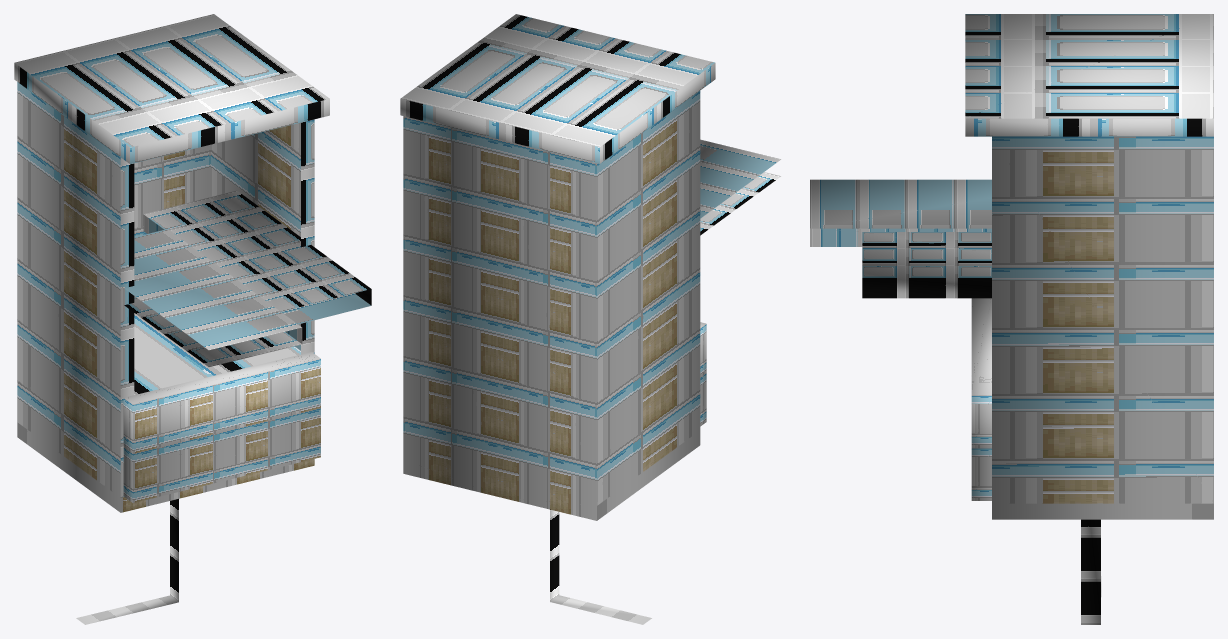
Rendered from 3234IMSD01_20.gltf.
The picture shows the model from 3 angles, left to right: view 1: azimuth 30°, elevation 25°; view 2: azimuth 150°, elevation 25°; view 3: azimuth 270°, elevation 25°; orthographic projection. The views are drawn at different scales.
Visible parts, largest first — view 1: 3234IMSD01_20; view 2: 3234IMSD01_20; view 3: 3234IMSD01_20.
Part boxes in pixels (x1,y1,x2,y2): 3234IMSD01_20: [14, 14, 371, 624]; 3234IMSD01_20: [400, 14, 780, 624]; 3234IMSD01_20: [810, 14, 1213, 624].
Size of the model in its own units: 0.9756 by 2.42 by 1.59.
2 materials, 2 textured.
